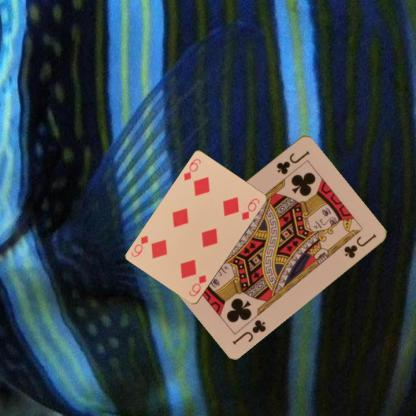6d: (186, 272, 208, 298), (181, 156, 202, 182)
Jc: (230, 316, 268, 346), (274, 148, 311, 176)
